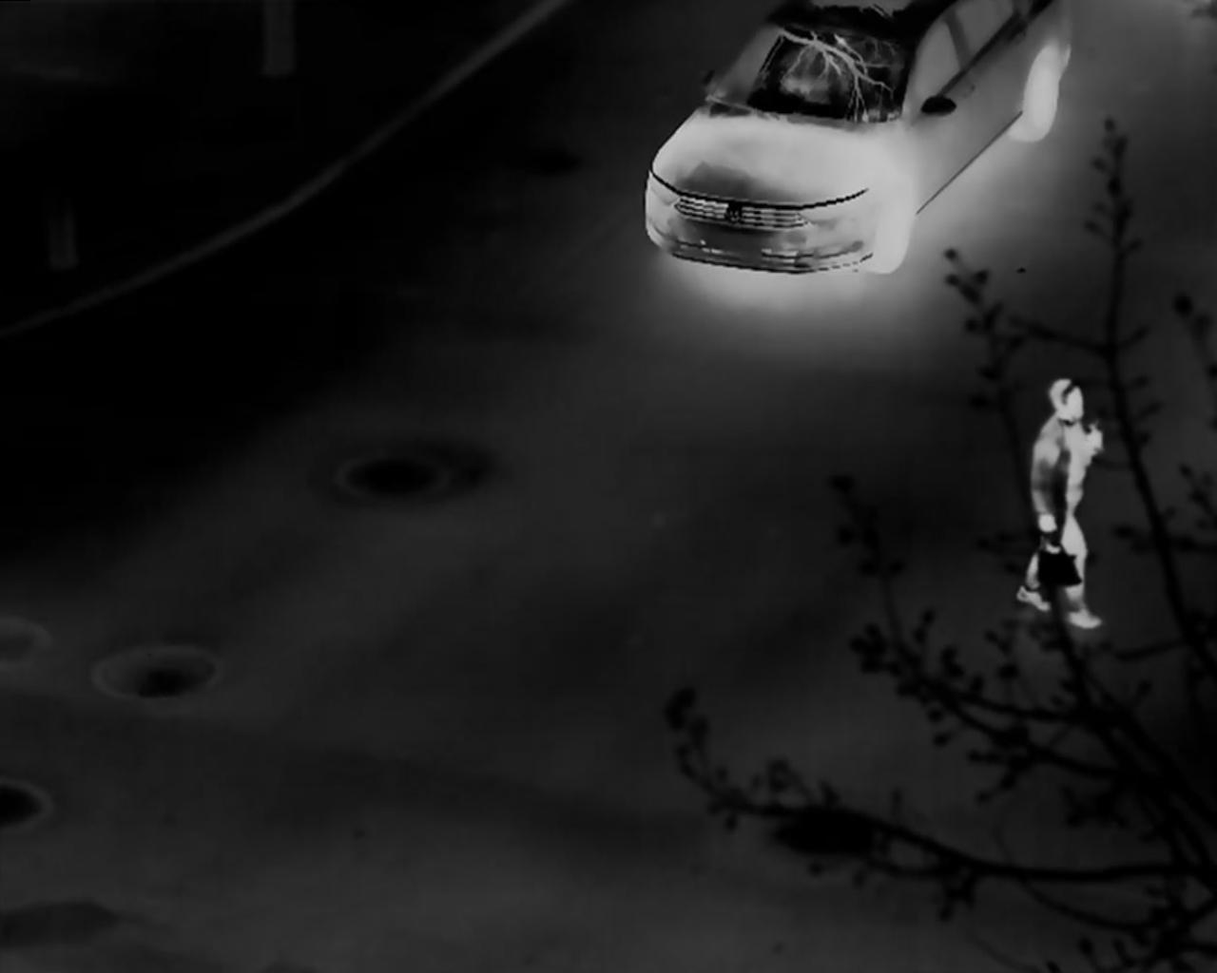person: (1014, 376, 1104, 629)
